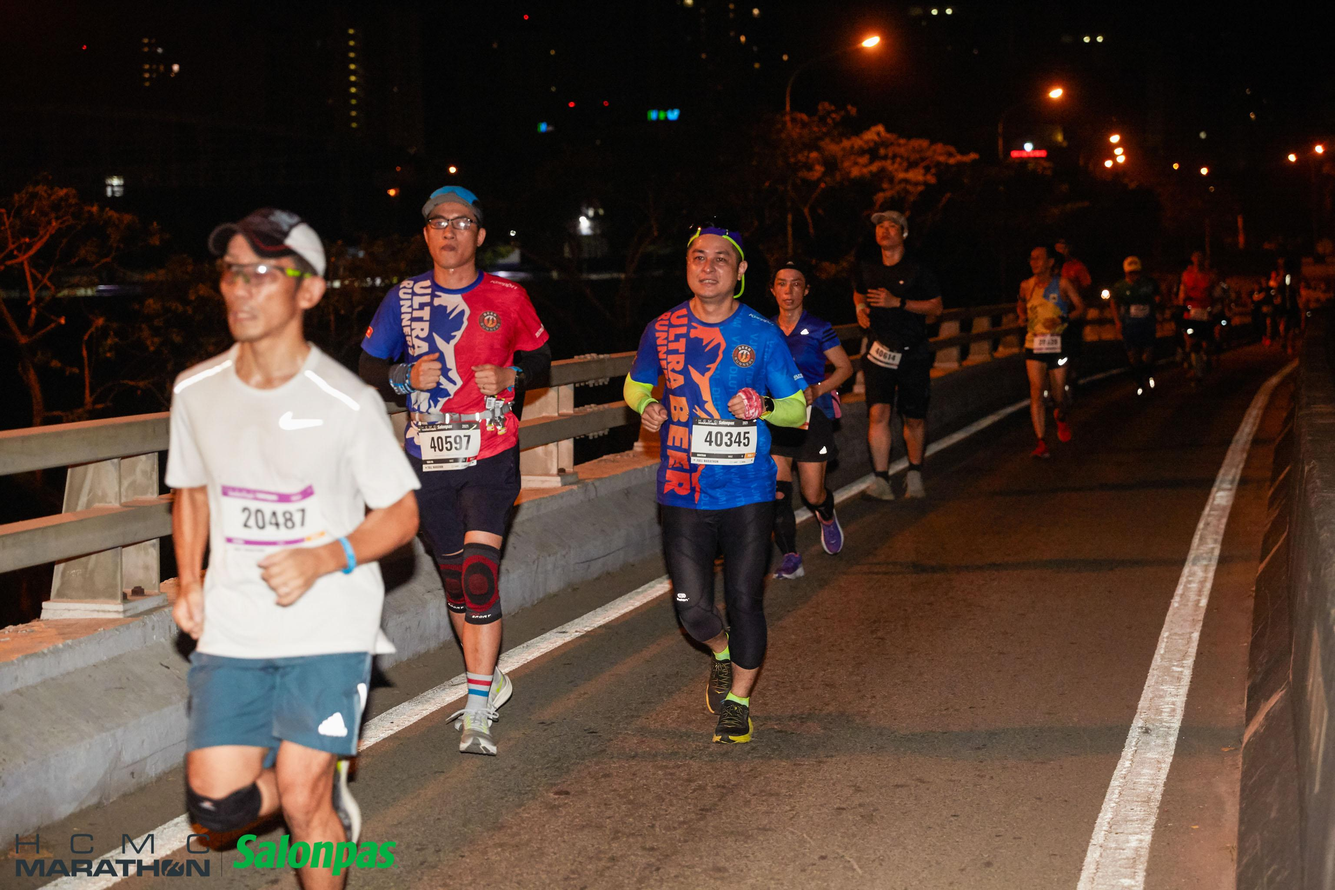bib: (220, 488, 329, 553), (693, 418, 757, 468), (418, 425, 482, 471), (864, 341, 902, 367), (1034, 335, 1063, 353)
